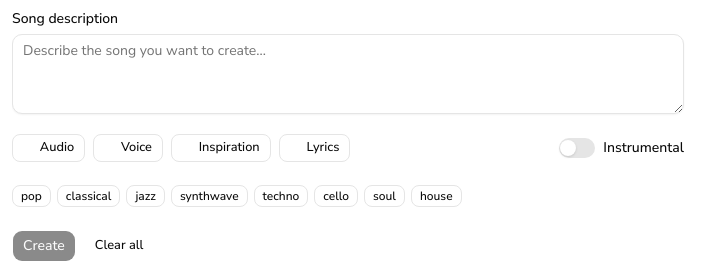
it: SimpleCreationForm › Clear all resets the form fields
The image size is (704, 280).
In the text box labelled "Song description": (348, 74) [12,34,684,114], type "dreamy"
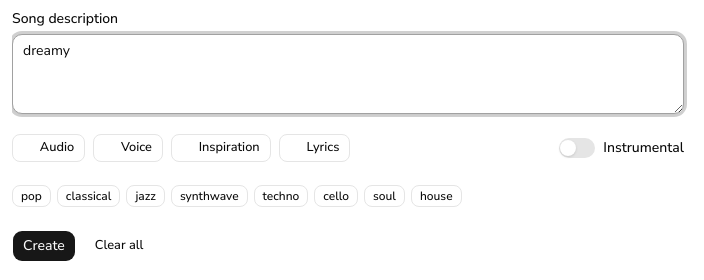
Click the button "Clear all": click(119, 246) [84,232,154,260]
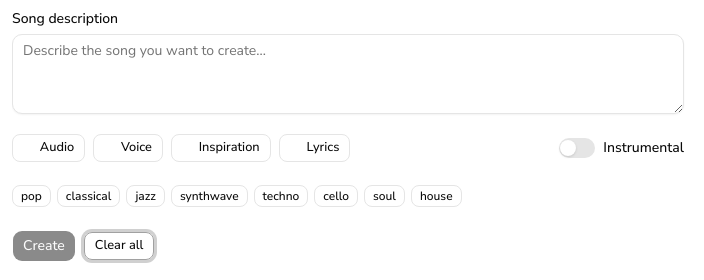
Now the text box labelled "Song description" is empty, box [12,34,684,114]
Now the button "Create" is disabled, box [12,230,76,262]
